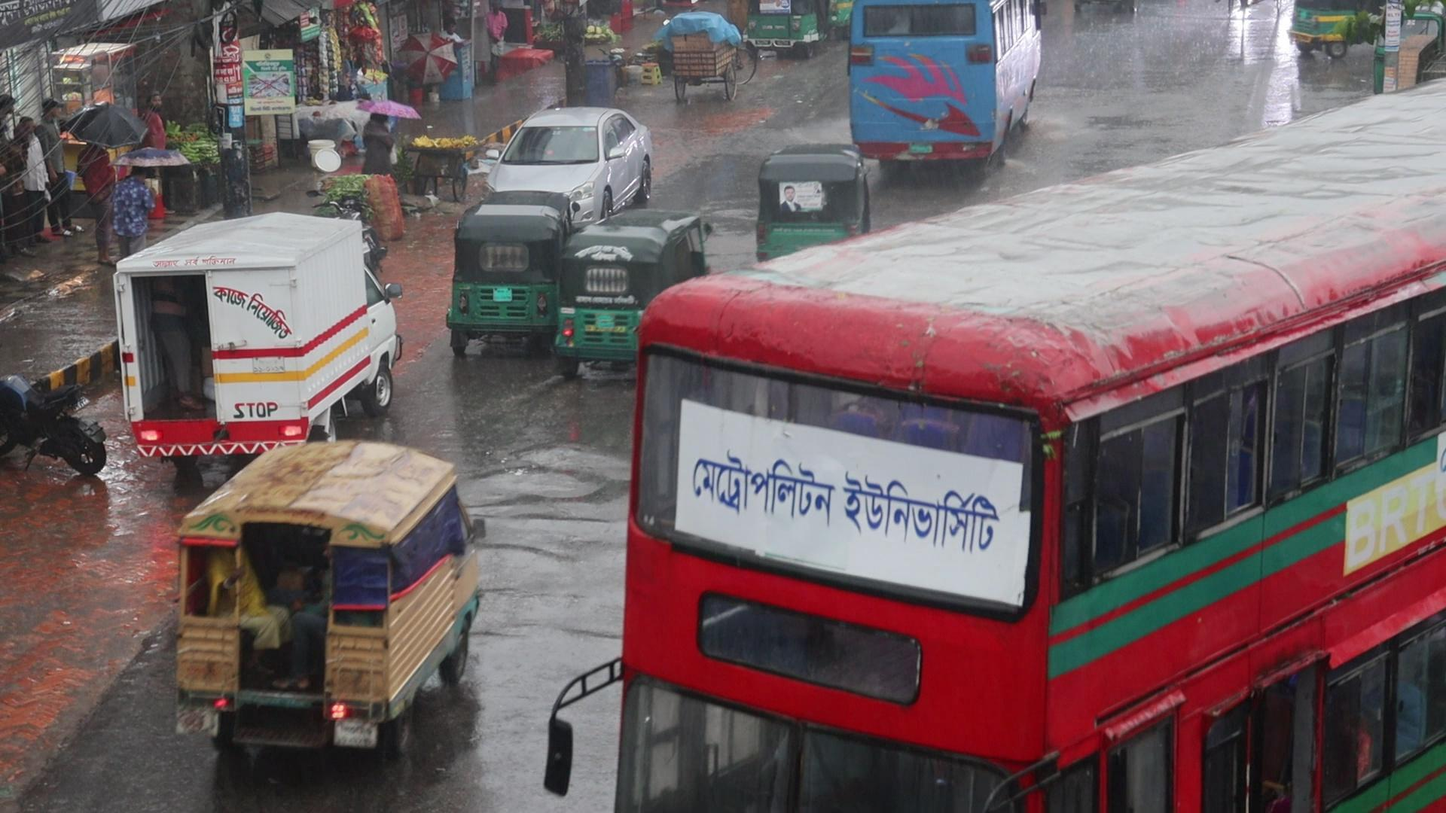Bus: (843, 1, 1043, 172)
Car: (481, 105, 655, 200)
Truck: (167, 437, 488, 766)
